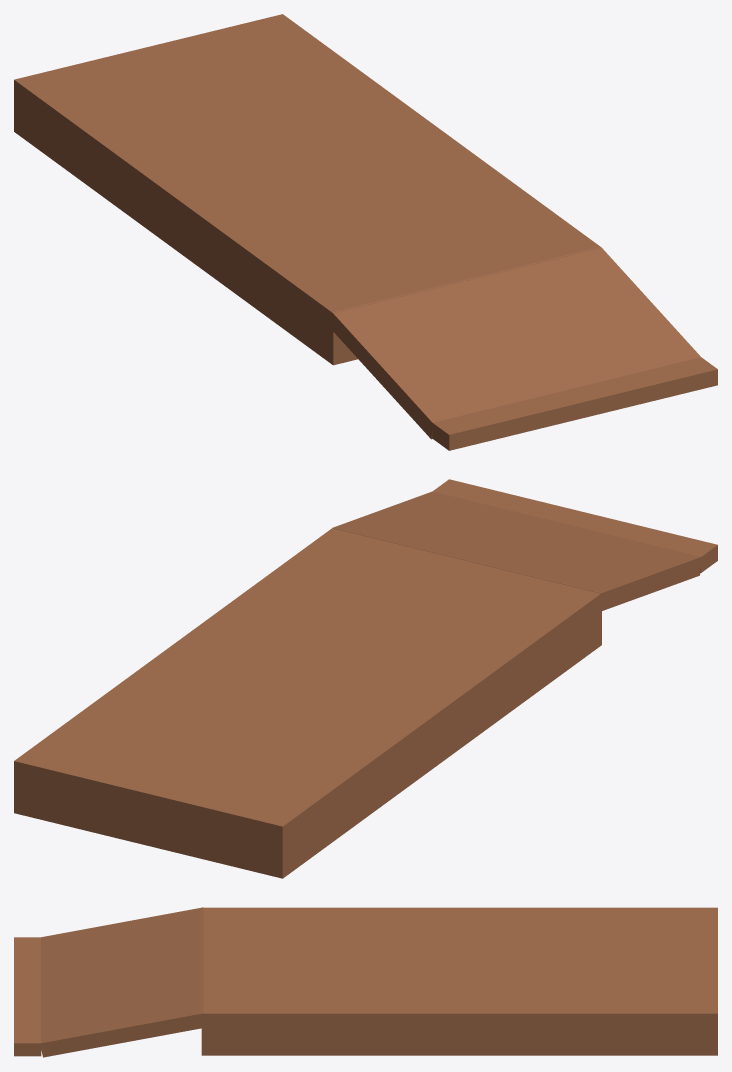
Rendered from SM_HACV7_EntranceApron_ArchitecturalFix.fbx.
3 views of the same model, one above another, from view 1: azimuth 30°, elevation 25°; view 2: azimuth 150°, elevation 25°; view 3: azimuth 270°, elevation 25° (orthographic). The views are drawn at different scales.
Visible parts, largest first — view 1: SM_HACV7_EntranceApron_Final_V07Fix; view 2: SM_HACV7_EntranceApron_Final_V07Fix; view 3: SM_HACV7_EntranceApron_Final_V07Fix.
Part boxes in pixels (<box>): SM_HACV7_EntranceApron_Final_V07Fix: <box>14,14,717,450</box>; SM_HACV7_EntranceApron_Final_V07Fix: <box>14,479,717,878</box>; SM_HACV7_EntranceApron_Final_V07Fix: <box>14,907,717,1057</box>.
Size of what is drawn, in the model's own units: 475 by 1332 by 92.2.
